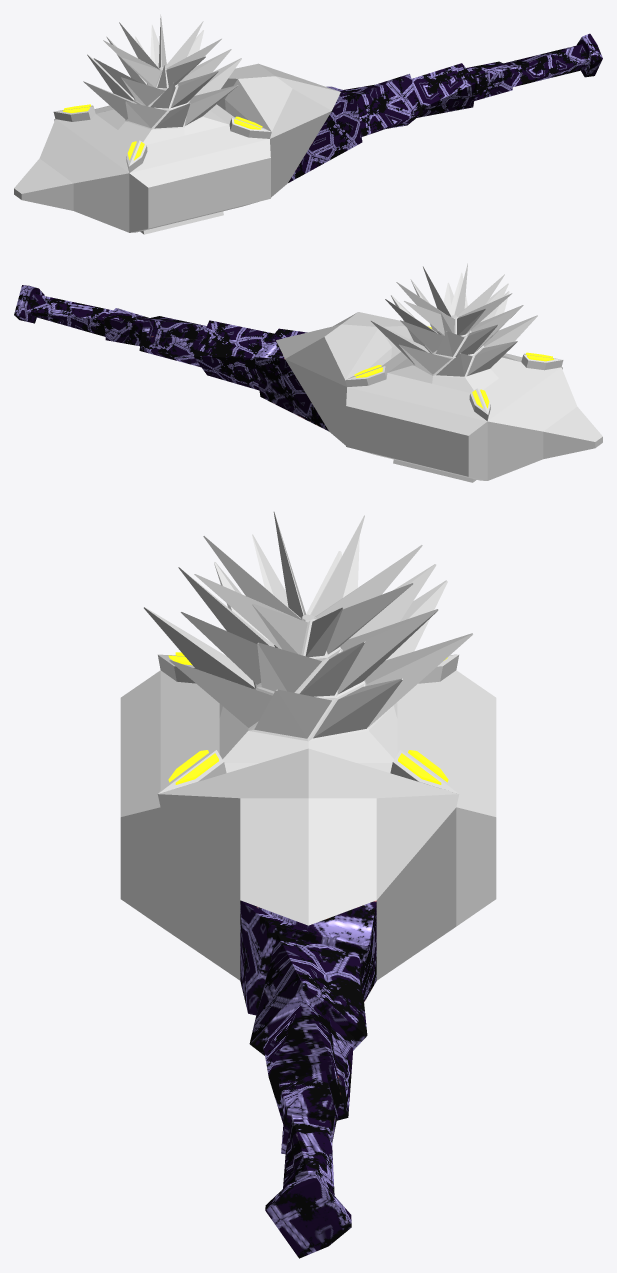
The model's file is sniper hlava.fbx.
The picture shows the model from 3 angles, top to bottom: view 1: azimuth 30°, elevation 25°; view 2: azimuth 150°, elevation 25°; view 3: azimuth 270°, elevation 25°; orthographic projection. The views are drawn at different scales.
Visible parts, largest first — view 1: sniper_muzzle; view 2: sniper_muzzle; view 3: sniper_muzzle.
Boxes of the visible parts, bbox=[...] form: sniper_muzzle: bbox=[14, 14, 602, 234]; sniper_muzzle: bbox=[14, 263, 602, 482]; sniper_muzzle: bbox=[120, 511, 496, 1258].
Size of the model in its own units: 1885 by 533 by 533.
